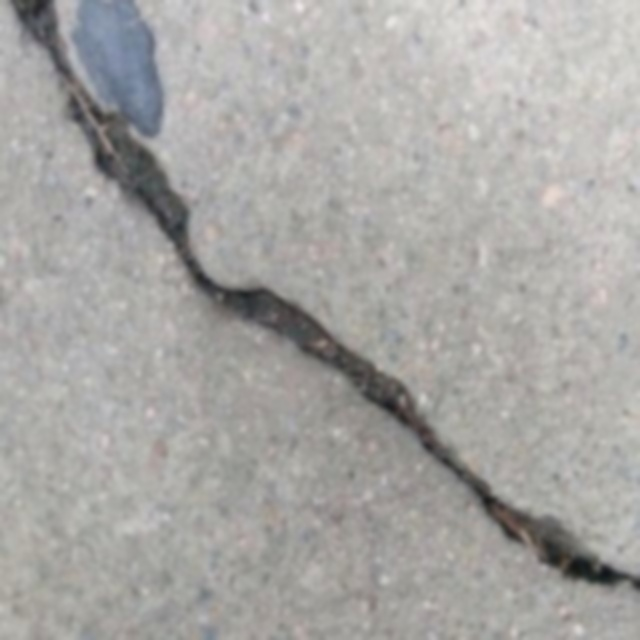SurfaceCrack: (14, 0, 640, 600)
